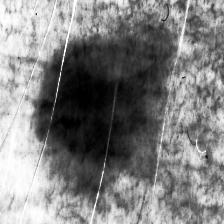Benign Marking or Mole: (54, 46, 165, 169)
